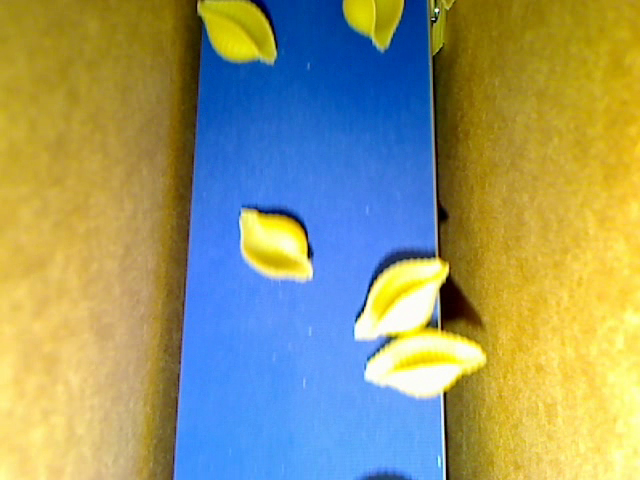penne: (431, 1, 446, 59), (437, 1, 456, 11)
shell: (363, 329, 487, 401), (350, 256, 449, 342), (236, 202, 312, 286), (194, 1, 281, 68), (339, 1, 405, 53)
